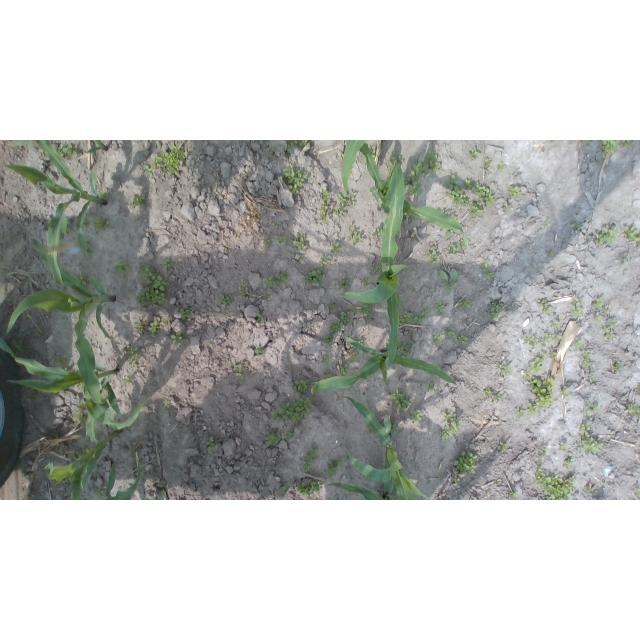Maize: (6, 217, 116, 404), (343, 162, 409, 368), (1, 337, 144, 430), (4, 140, 110, 262), (358, 140, 464, 234), (339, 394, 427, 500), (311, 336, 459, 393), (46, 412, 122, 500), (104, 449, 141, 500), (7, 140, 108, 154), (342, 140, 367, 194), (328, 480, 385, 501)
Weeds: (134, 262, 171, 306), (404, 152, 440, 197), (523, 372, 556, 414), (534, 468, 576, 500), (151, 141, 189, 175), (271, 396, 313, 425), (579, 424, 604, 456), (444, 172, 468, 204), (283, 165, 308, 195), (320, 454, 346, 478), (390, 387, 413, 413), (473, 182, 496, 207), (454, 452, 479, 475), (439, 269, 460, 295), (398, 307, 430, 324), (264, 268, 291, 288), (302, 447, 320, 474), (441, 413, 459, 440), (297, 480, 321, 497), (596, 227, 617, 245), (348, 225, 365, 246), (286, 141, 309, 156), (426, 244, 440, 268), (305, 268, 324, 285), (397, 340, 416, 357), (55, 144, 78, 158), (93, 218, 114, 233), (600, 141, 618, 158), (488, 302, 504, 321), (293, 232, 308, 252), (387, 151, 404, 168), (335, 193, 347, 216), (623, 226, 640, 242), (129, 194, 145, 211), (126, 347, 142, 364), (264, 431, 280, 448), (584, 401, 600, 418), (528, 356, 545, 372), (570, 299, 585, 317), (115, 258, 130, 276), (480, 261, 494, 280), (295, 379, 310, 395), (434, 299, 446, 318), (149, 316, 161, 334), (538, 299, 553, 313), (602, 326, 616, 341), (218, 294, 234, 307), (52, 354, 68, 367), (319, 204, 329, 224), (328, 319, 342, 333), (410, 409, 424, 423), (23, 389, 38, 402), (625, 404, 640, 417), (471, 202, 483, 218), (581, 351, 592, 368), (457, 296, 471, 309), (171, 332, 185, 345), (509, 185, 524, 197), (572, 336, 584, 351), (321, 188, 332, 203), (13, 340, 26, 352), (361, 303, 373, 316), (339, 312, 351, 325), (372, 224, 384, 237), (456, 332, 468, 345), (445, 327, 457, 340), (500, 364, 513, 376), (468, 147, 479, 161), (73, 409, 84, 423), (283, 430, 295, 442), (207, 436, 216, 452), (179, 308, 191, 320), (320, 255, 333, 266), (483, 156, 491, 173), (75, 448, 90, 457), (391, 420, 400, 435), (340, 279, 351, 291), (592, 297, 604, 308), (497, 441, 510, 451), (565, 458, 576, 469), (457, 237, 468, 248), (433, 333, 443, 345), (524, 334, 536, 344), (426, 380, 435, 393), (65, 220, 73, 234), (371, 264, 381, 275), (324, 334, 335, 344), (561, 386, 572, 396), (134, 320, 145, 330), (163, 259, 173, 270), (144, 165, 153, 177), (622, 140, 635, 148), (77, 275, 87, 285), (448, 244, 457, 255), (613, 364, 624, 373), (552, 319, 561, 330), (466, 179, 473, 193), (579, 140, 591, 148), (276, 236, 288, 244), (340, 364, 348, 376), (265, 236, 272, 249), (350, 192, 357, 205), (332, 243, 341, 253), (367, 424, 376, 434), (483, 388, 494, 396), (539, 445, 547, 456), (551, 335, 563, 342), (559, 442, 568, 451), (321, 356, 330, 365), (360, 276, 368, 286), (67, 453, 77, 461), (542, 332, 550, 342), (504, 203, 512, 213), (517, 408, 525, 418), (369, 148, 376, 159), (235, 365, 241, 377), (497, 163, 506, 171), (430, 287, 438, 296), (255, 346, 264, 354), (94, 490, 104, 497), (240, 287, 248, 295), (508, 492, 516, 500), (79, 399, 87, 407), (54, 481, 63, 488), (279, 486, 286, 495), (544, 220, 551, 229), (496, 394, 505, 401), (23, 472, 33, 478), (571, 223, 581, 229), (324, 373, 334, 379), (589, 374, 596, 382), (123, 377, 130, 385), (163, 318, 171, 325), (328, 303, 337, 309), (608, 319, 617, 325), (257, 313, 264, 320), (621, 257, 628, 264), (271, 148, 277, 156), (601, 307, 609, 313), (551, 351, 557, 359), (163, 400, 169, 408), (352, 356, 361, 361), (469, 496, 480, 500), (358, 340, 365, 346), (351, 305, 357, 312), (241, 279, 247, 286), (454, 477, 461, 483), (541, 352, 547, 359), (595, 315, 602, 321), (412, 284, 417, 292), (132, 452, 140, 457), (79, 381, 85, 387), (102, 484, 109, 489), (538, 458, 545, 463), (549, 252, 555, 257), (356, 348, 361, 354), (588, 486, 593, 492), (33, 332, 40, 336), (363, 155, 367, 161)
